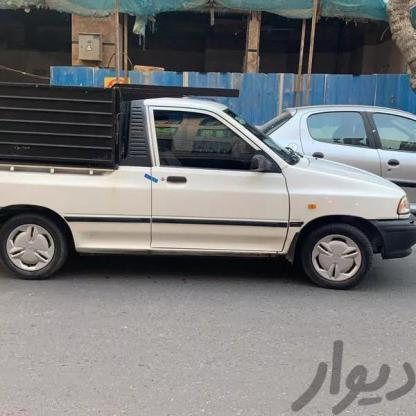Car: (0, 71, 416, 308), (269, 103, 416, 234)
